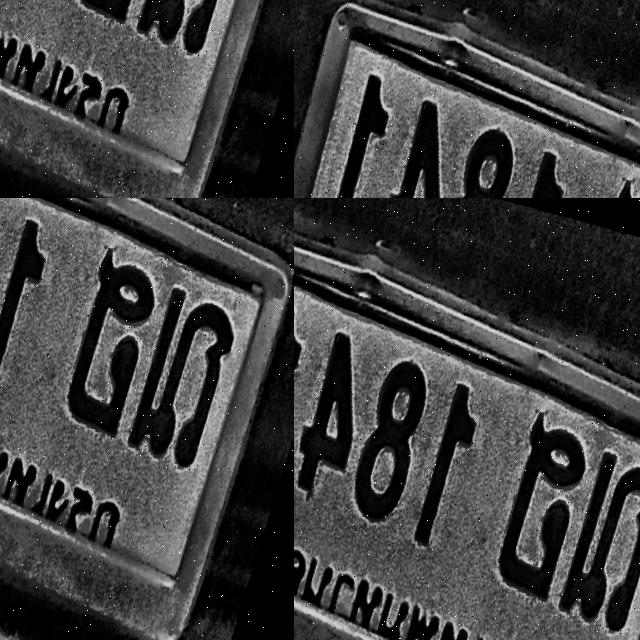license-plate: (294, 198, 640, 640), (0, 0, 294, 198)
